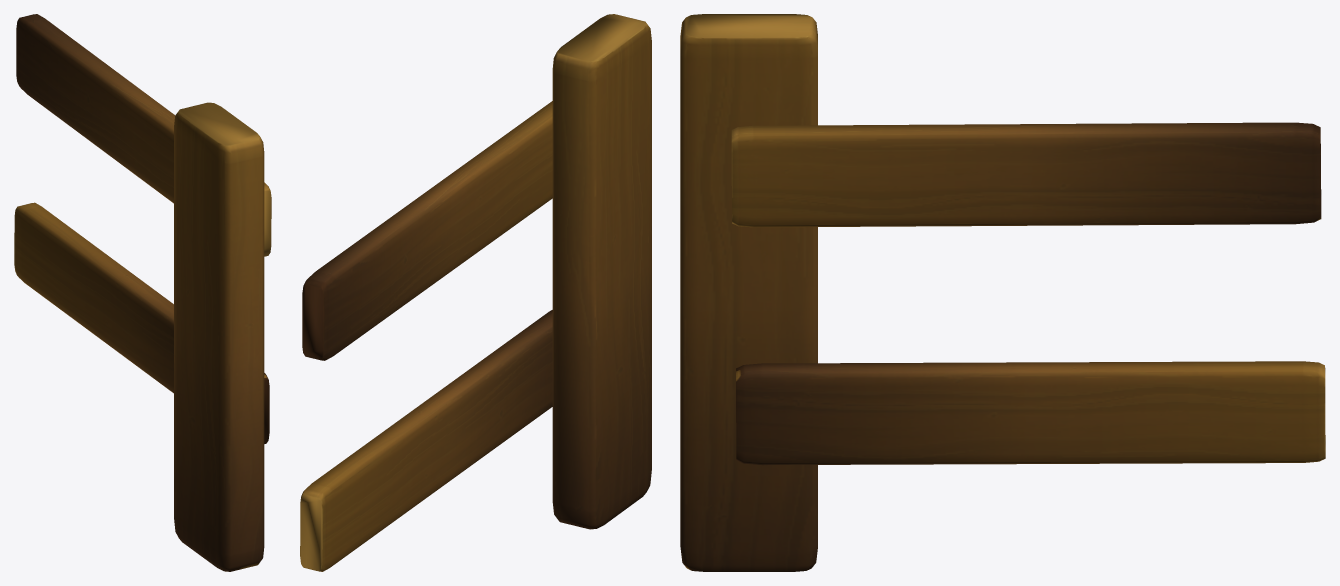
File: Fence_count.glb
3 renders of one model, left to right at view 1: azimuth 30°, elevation 25°; view 2: azimuth 150°, elevation 25°; view 3: azimuth 270°, elevation 25°, orthographic. The views are drawn at different scales.
Parts seen in each view (by area): view 1: PLank v1, PLank v1.003, PLank v1.002; view 2: PLank v1, PLank v1.003, PLank v1.002; view 3: PLank v1.002, PLank v1.003, PLank v1.
Boxes of the visible parts, <box> form: PLank v1: <box>174,102,264,571</box>; PLank v1.003: <box>14,202,269,443</box>; PLank v1.002: <box>16,14,271,256</box>; PLank v1: <box>552,14,651,529</box>; PLank v1.003: <box>300,310,552,571</box>; PLank v1.002: <box>302,101,552,360</box>; PLank v1.002: <box>731,122,1321,227</box>; PLank v1.003: <box>736,361,1325,465</box>; PLank v1: <box>680,14,817,571</box>.
Bounding box in the file's own units: 0.1972 × 1.19 × 1.3.
1 material, 1 textured.
